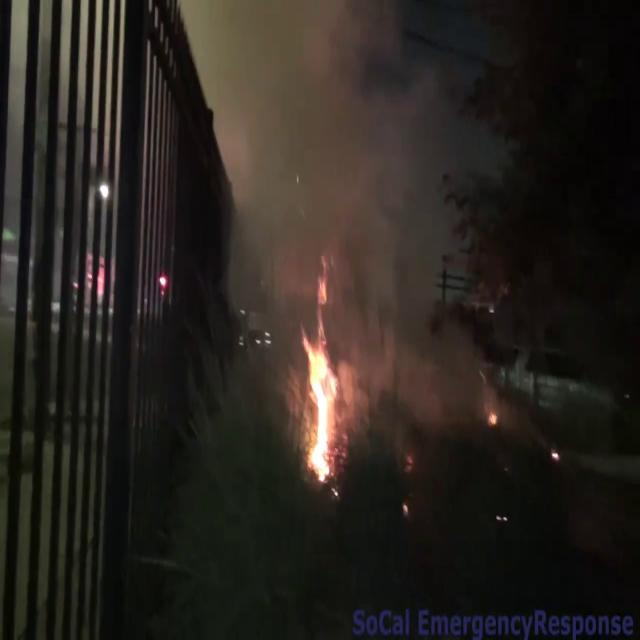Fire: (297, 274, 343, 482)
Smoke: (200, 0, 522, 422)
